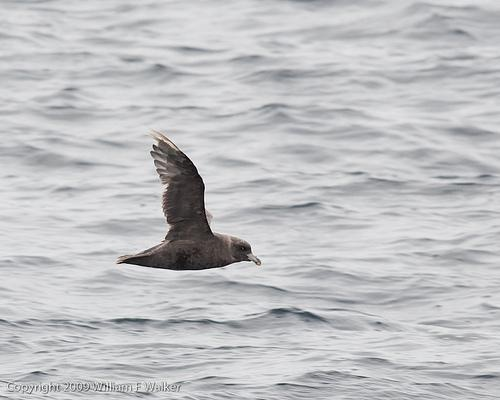bird: (116, 130, 263, 275)
